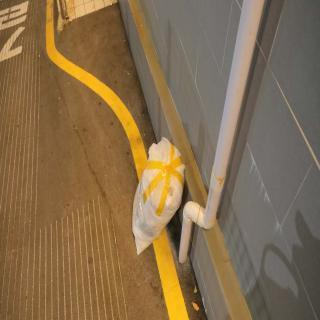Garbage: (126, 127, 189, 257)
